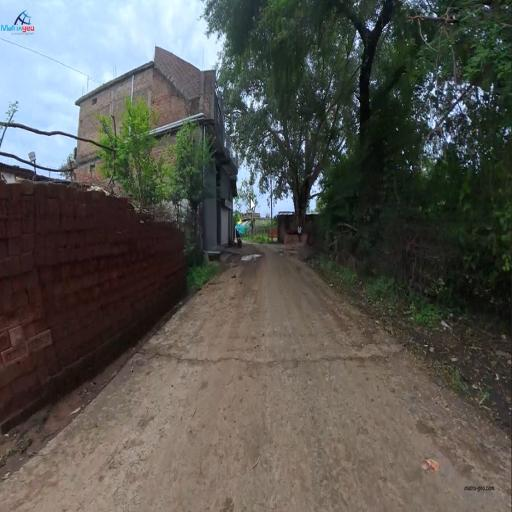longitudinal_crack: (148, 342, 396, 391)
